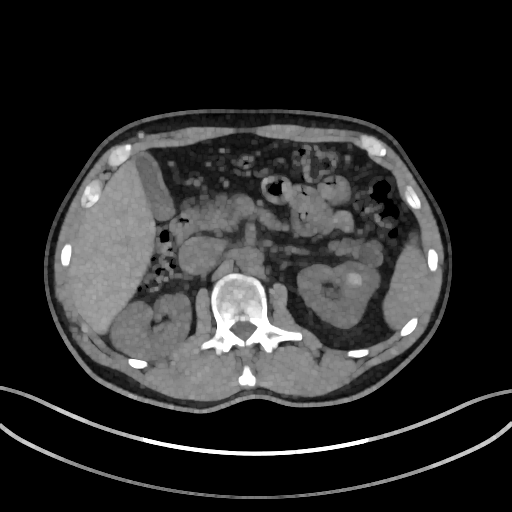Lesion: (343, 269, 367, 288)
